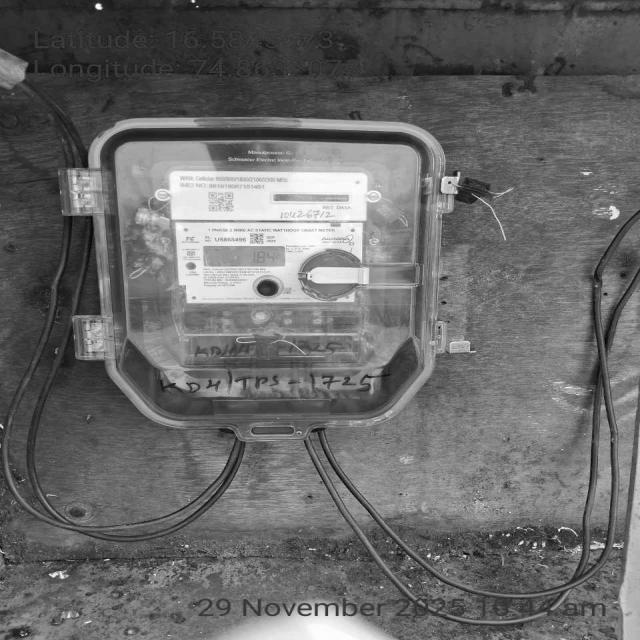meter: (169, 168, 370, 306)
